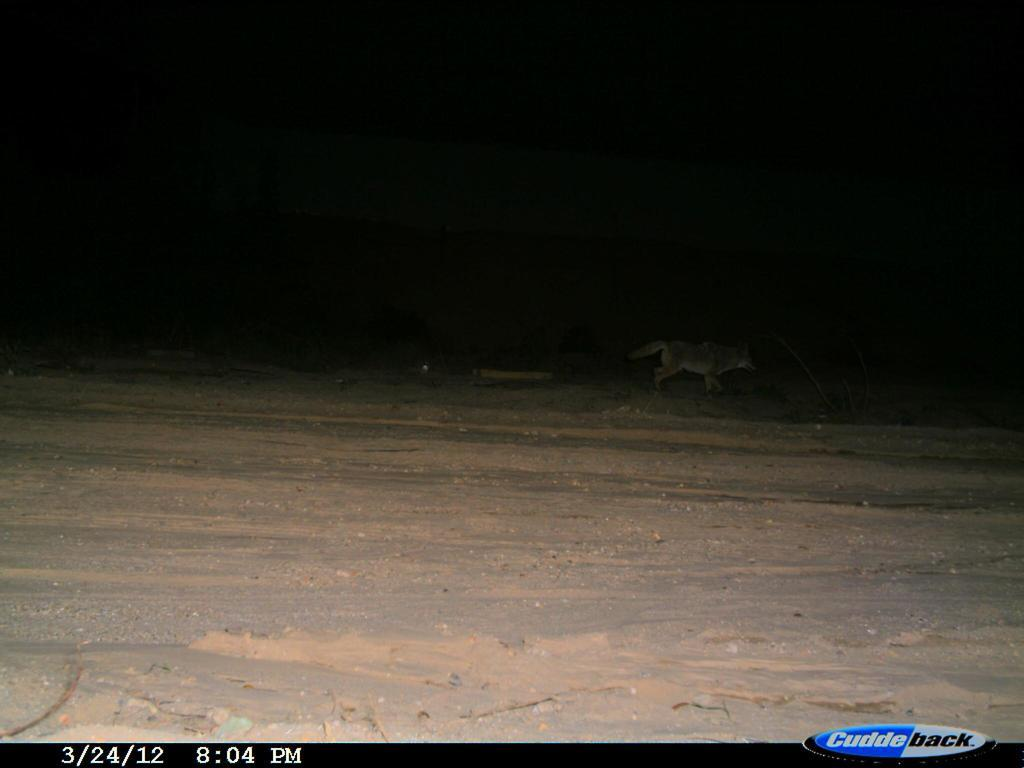coyote: (625, 319, 765, 406)
